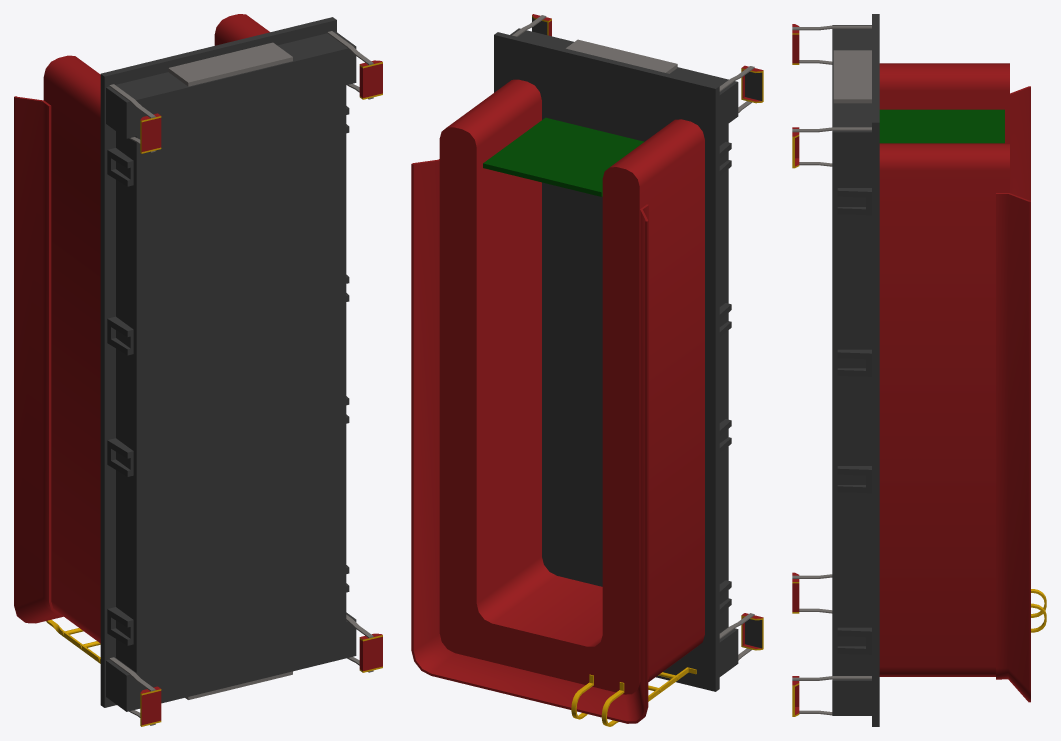
The model's file is TenderWagon_01_LOD1.fbx.
3 renders of one model, left to right at view 1: azimuth 30°, elevation 25°; view 2: azimuth 150°, elevation 25°; view 3: azimuth 270°, elevation 25°, orthographic. The views are drawn at different scales.
Visible parts, largest first — view 1: TenderWagon_01_LOD1; view 2: TenderWagon_01_LOD1; view 3: TenderWagon_01_LOD1.
Boxes of the visible parts, x1,y1,x2,y2 form: TenderWagon_01_LOD1: (14, 14, 382, 726); TenderWagon_01_LOD1: (411, 14, 763, 726); TenderWagon_01_LOD1: (792, 14, 1046, 726).
Size of the model in its own units: 3.18 by 7.78 by 2.97.
